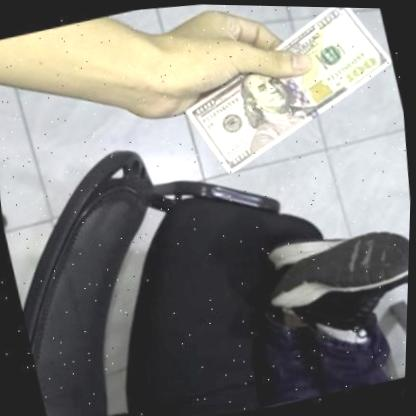one_hundred-front: (158, 3, 412, 188)
